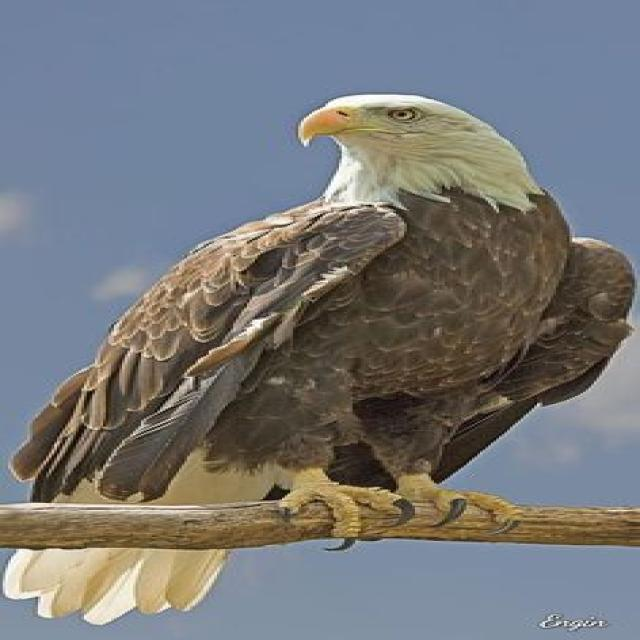Carnivorous: (3, 94, 635, 624)
